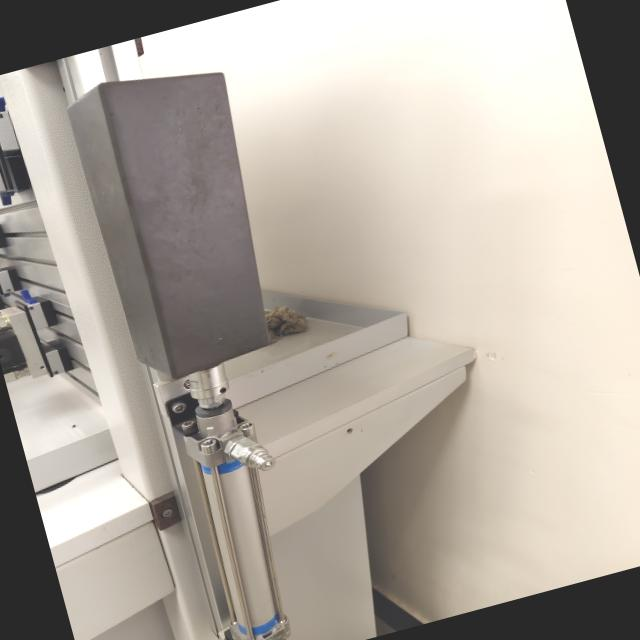load: (32, 29, 382, 640)
